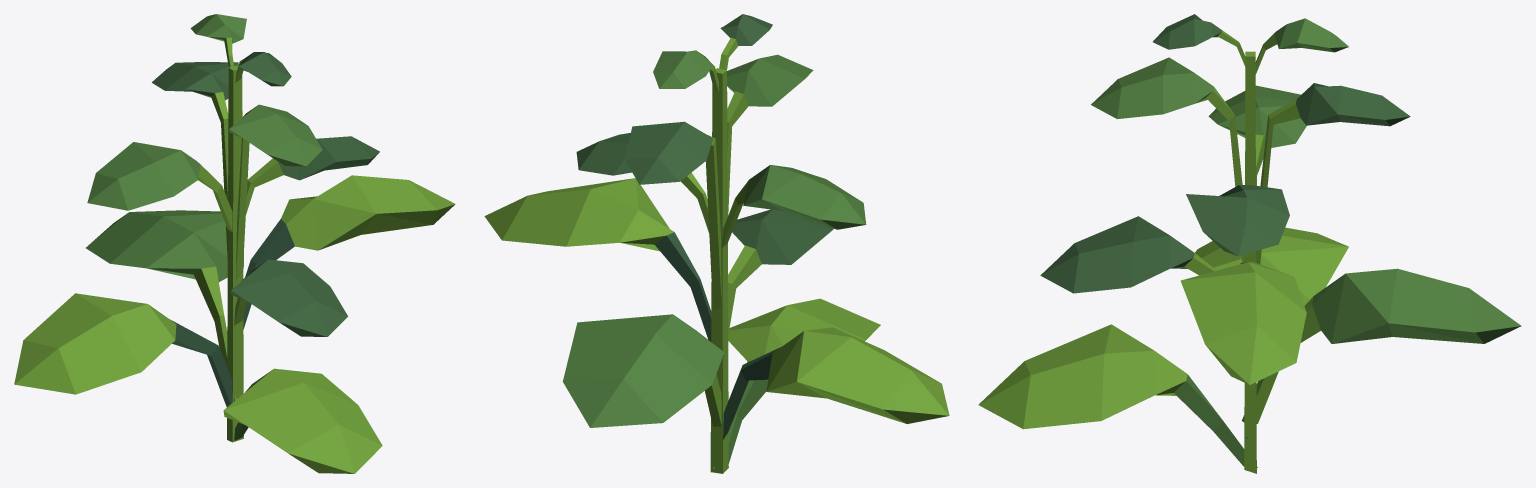
File: EA_M_Env_Shrub_01a.fbx
The picture shows the model from 3 angles, left to right: view 1: azimuth 30°, elevation 25°; view 2: azimuth 150°, elevation 25°; view 3: azimuth 270°, elevation 25°; orthographic projection. The views are drawn at different scales.
Parts seen in each view (by area): view 1: EA_M_Env_Shrub_01a_LOD0; view 2: EA_M_Env_Shrub_01a_LOD0; view 3: EA_M_Env_Shrub_01a_LOD0.
Boxes of the visible parts, bbox=[...] form: EA_M_Env_Shrub_01a_LOD0: bbox=[14, 14, 455, 473]; EA_M_Env_Shrub_01a_LOD0: bbox=[484, 14, 949, 473]; EA_M_Env_Shrub_01a_LOD0: bbox=[978, 14, 1521, 473].
Size of what is drawn, in the model's own units: 1.14 by 1.02 by 1.1.
